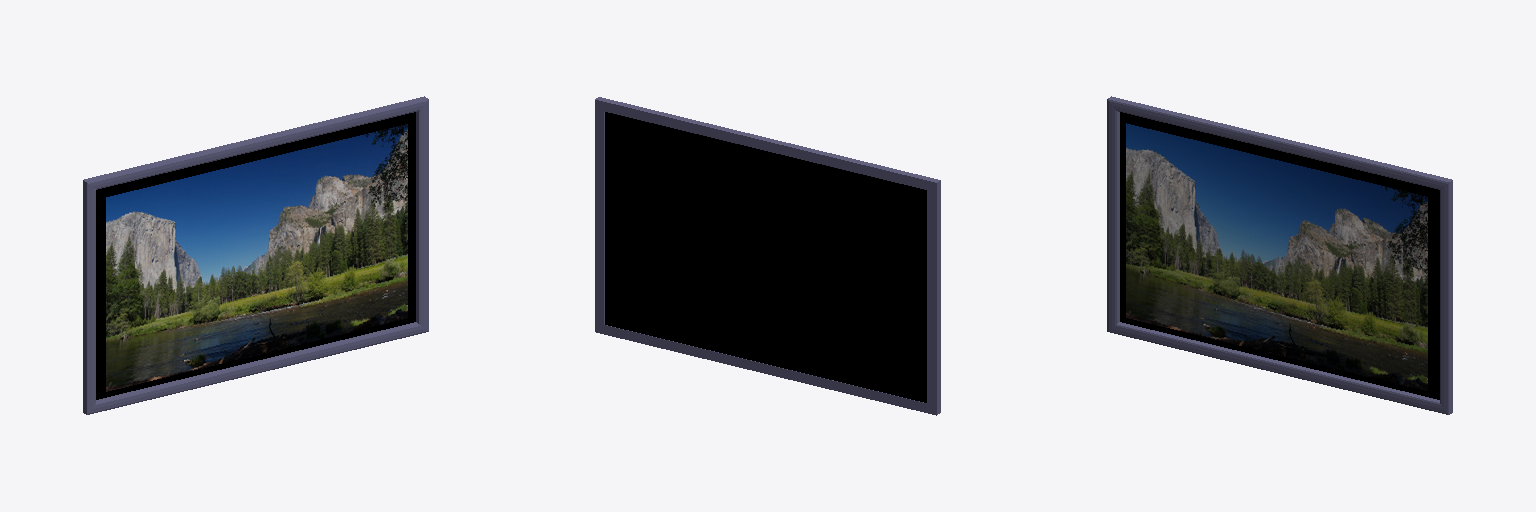
3 renders of one model, left to right at view 1: azimuth 30°, elevation 25°; view 2: azimuth 150°, elevation 25°; view 3: azimuth 330°, elevation 25°, orthographic.
Visible parts, largest first — view 1: Photo_Cube_Material_Yosemite, MetalFrame_Cylinder_Aluminium.015, Frame_Black_Material.019; view 2: Frame_Black_Material.019, MetalFrame_Cylinder_Aluminium.015; view 3: Photo_Cube_Material_Yosemite, MetalFrame_Cylinder_Aluminium.015, Frame_Black_Material.019.
Boxes of the visible parts, x1=… form: Photo_Cube_Material_Yosemite: x1=106, y1=124, x2=407, y2=391; MetalFrame_Cylinder_Aluminium.015: x1=83, y1=96, x2=428, y2=414; Frame_Black_Material.019: x1=96, y1=112, x2=415, y2=399; Frame_Black_Material.019: x1=605, y1=112, x2=926, y2=402; MetalFrame_Cylinder_Aluminium.015: x1=595, y1=97, x2=940, y2=415; Photo_Cube_Material_Yosemite: x1=1126, y1=123, x2=1427, y2=390; MetalFrame_Cylinder_Aluminium.015: x1=1107, y1=96, x2=1452, y2=414; Frame_Black_Material.019: x1=1120, y1=112, x2=1439, y2=399.
Size of the model in its own units: 1 by 0.6509 by 0.0217.
3 materials, 1 textured.